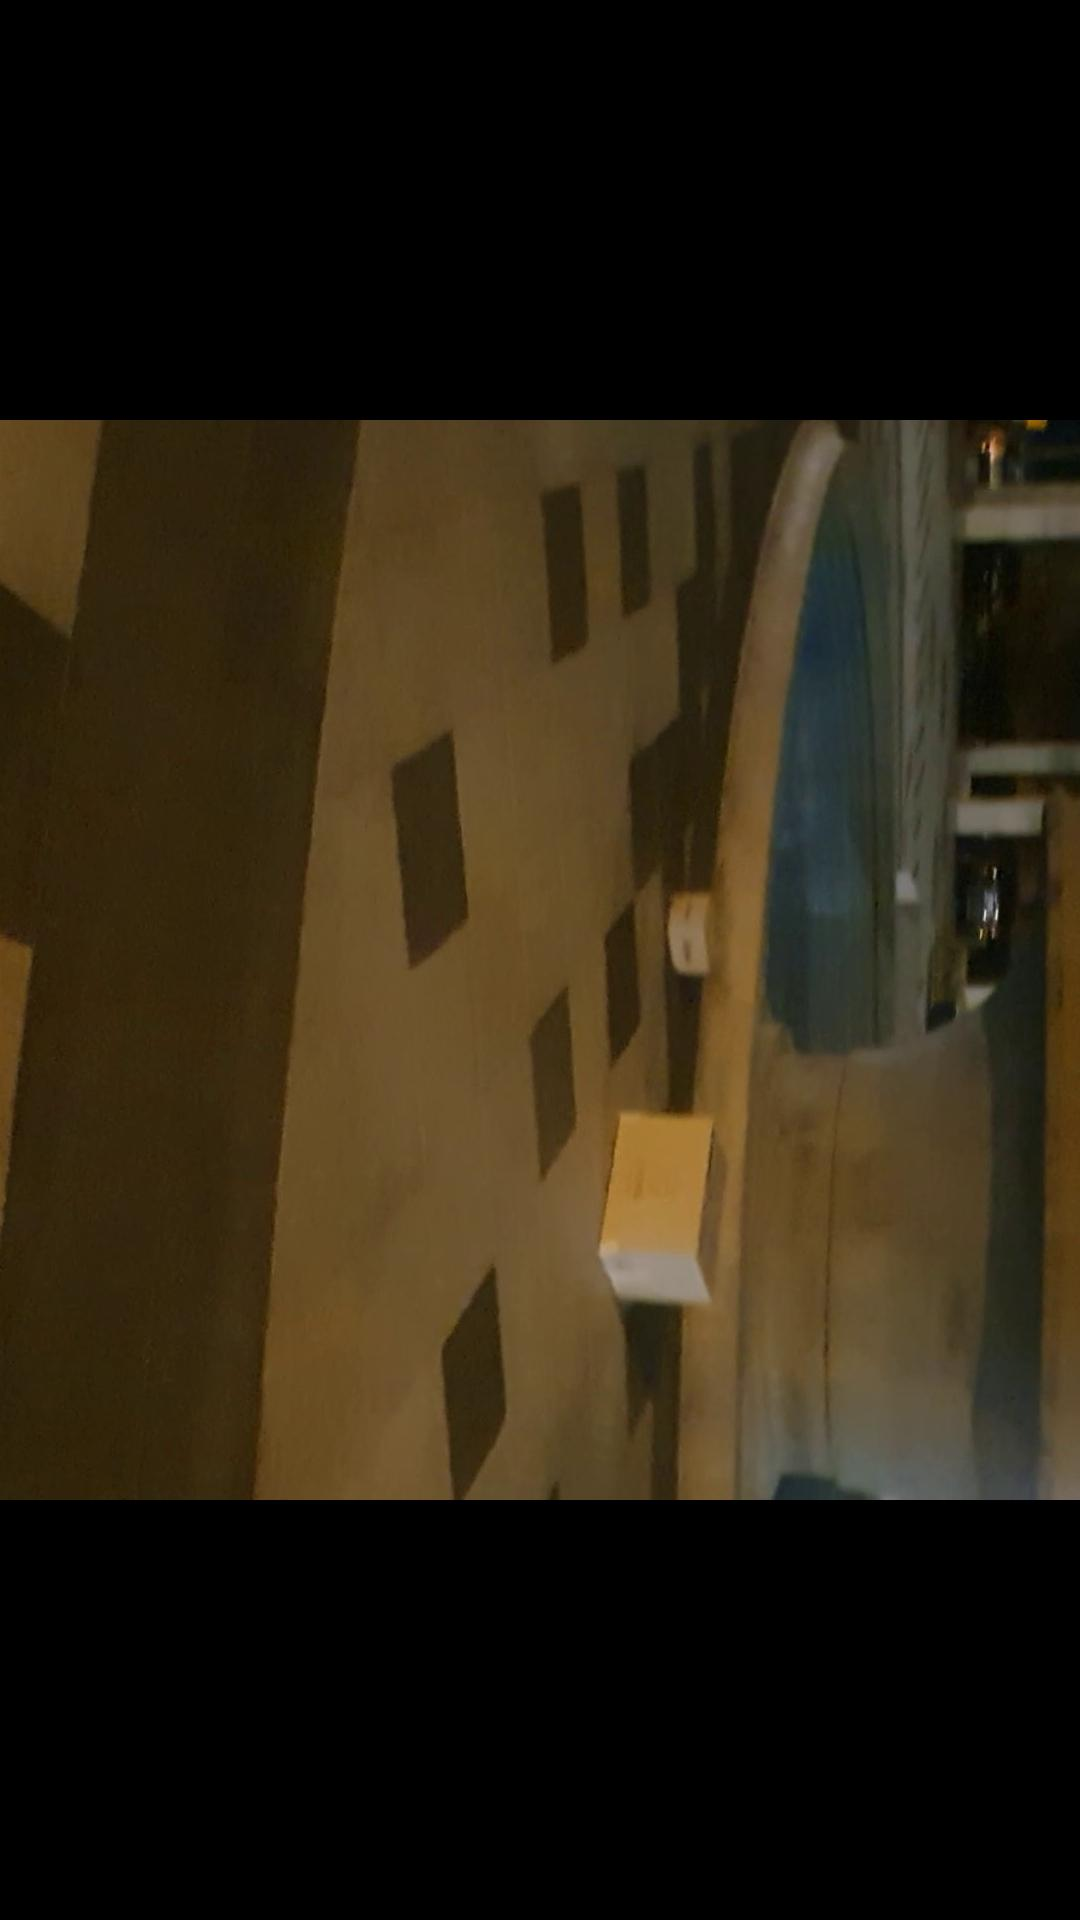Box: (600, 1102, 732, 1317), (642, 872, 732, 993)
